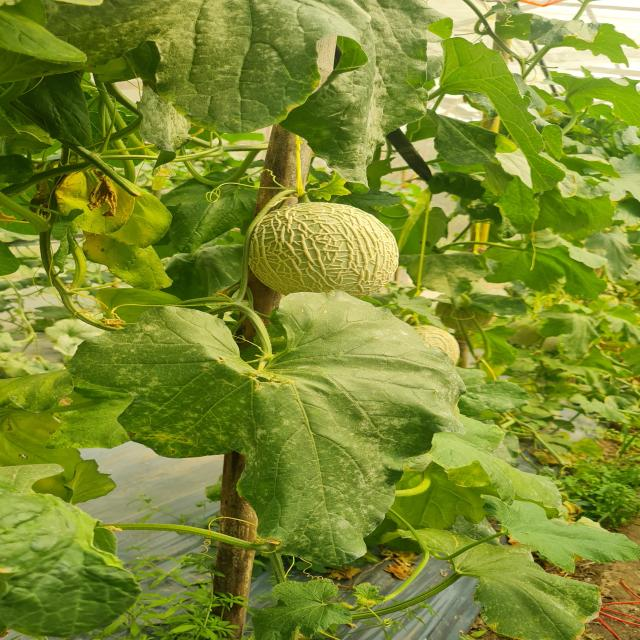melon: (249, 202, 398, 298)
